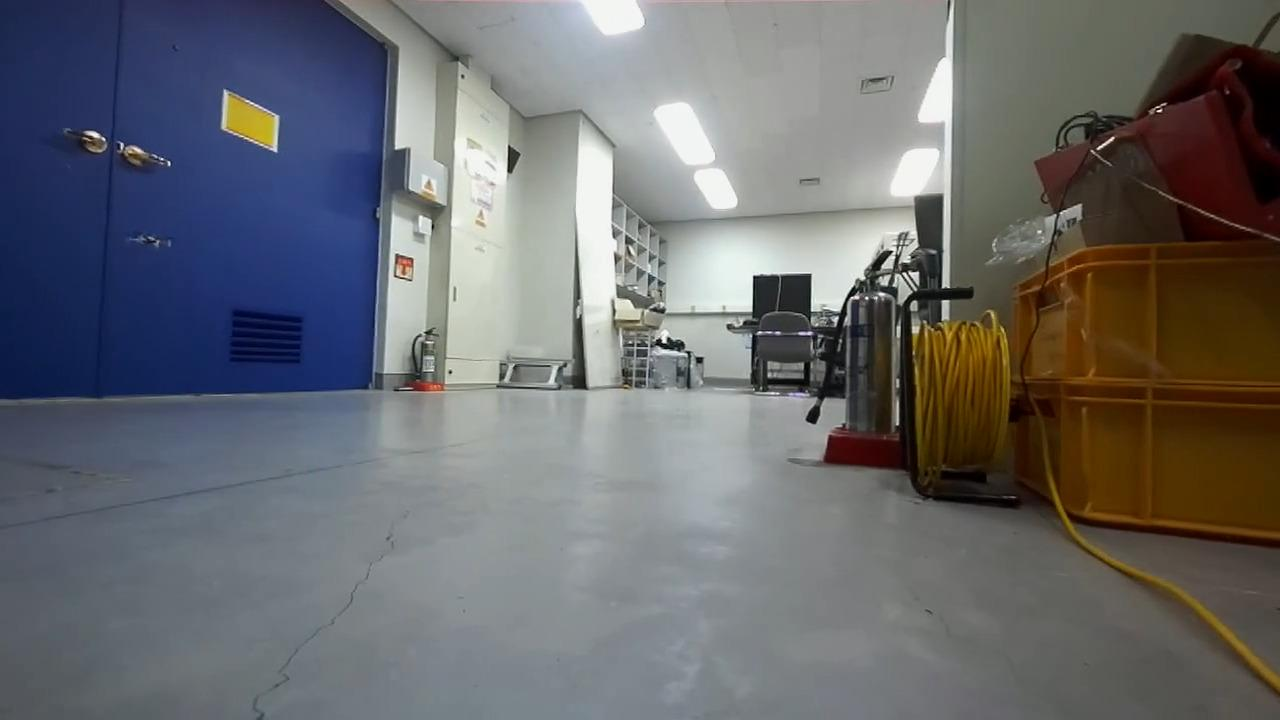crazyflie: (117, 227, 174, 254)
